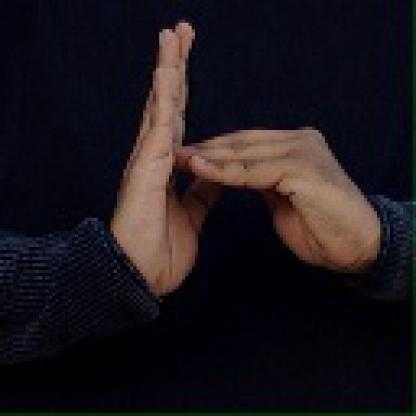Z: (102, 19, 337, 280)
